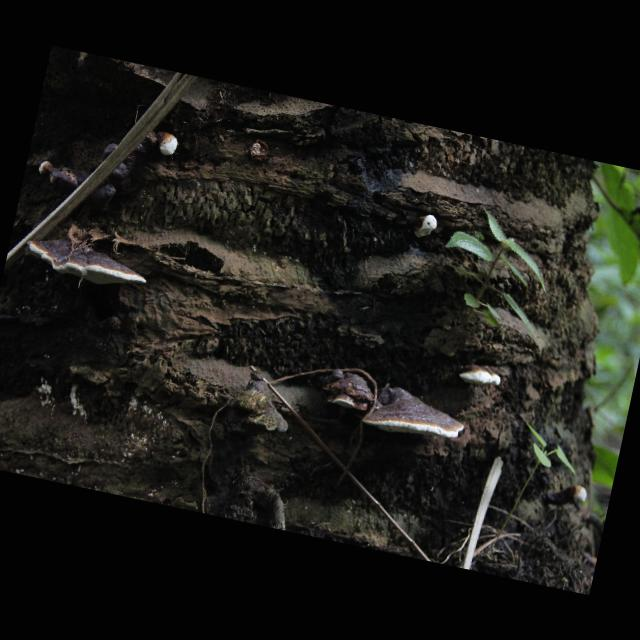ganoderma: (48, 111, 158, 213), (22, 230, 154, 296), (361, 382, 471, 449), (319, 367, 383, 415), (457, 363, 503, 392)
primordium: (412, 213, 439, 243), (154, 131, 181, 159), (567, 484, 591, 507), (38, 160, 55, 179)
